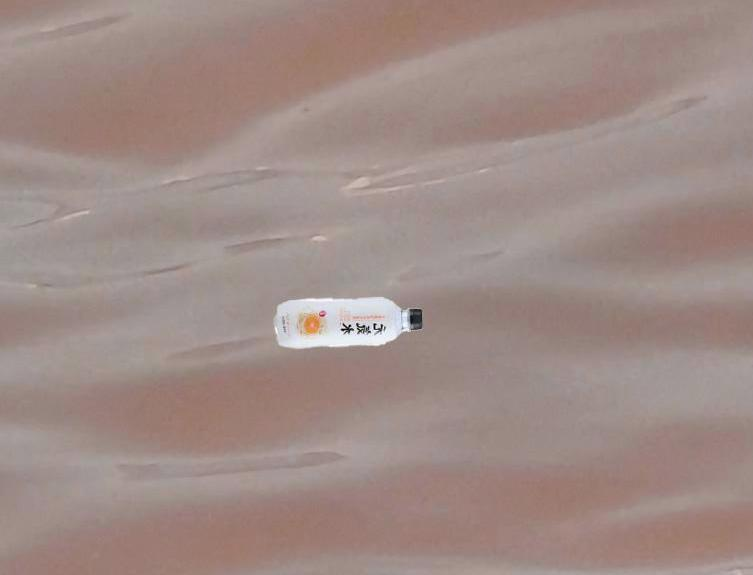Plastic: (270, 295, 428, 354)
